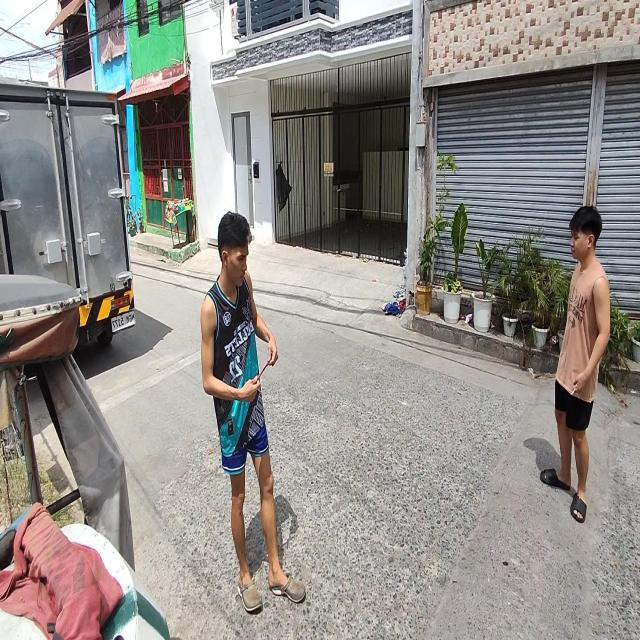scissor: (256, 354, 273, 378)
